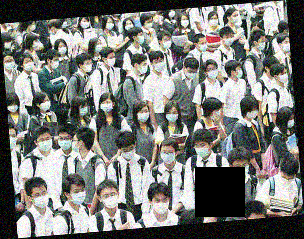with_mask: (151, 196, 171, 215), (31, 190, 50, 209), (69, 187, 87, 206), (102, 190, 119, 209), (194, 141, 211, 159), (56, 134, 73, 152), (232, 162, 251, 178), (120, 145, 137, 161), (160, 149, 176, 165), (38, 135, 53, 152), (135, 109, 151, 123), (245, 106, 260, 120), (165, 110, 180, 124), (38, 98, 52, 112), (99, 99, 113, 113), (22, 58, 35, 73), (280, 175, 296, 187), (77, 103, 90, 117), (276, 70, 289, 84), (207, 65, 219, 80), (223, 32, 235, 47), (153, 58, 165, 72), (71, 136, 80, 154), (185, 68, 199, 79), (138, 61, 149, 75), (106, 54, 117, 68), (162, 36, 173, 50), (209, 109, 221, 121), (50, 57, 61, 70), (4, 58, 15, 71), (197, 40, 208, 53), (256, 38, 267, 51), (286, 116, 296, 130), (10, 132, 18, 149), (7, 103, 20, 113), (83, 60, 93, 73), (57, 43, 67, 56), (180, 16, 190, 29), (235, 66, 244, 80), (208, 16, 219, 27), (79, 18, 90, 29), (94, 41, 103, 54), (137, 32, 146, 45), (282, 39, 290, 53), (230, 12, 240, 23), (144, 19, 154, 30), (105, 20, 115, 31), (3, 39, 12, 50), (124, 22, 135, 31), (32, 38, 40, 49), (29, 21, 37, 32), (168, 10, 176, 19), (48, 27, 56, 36)
